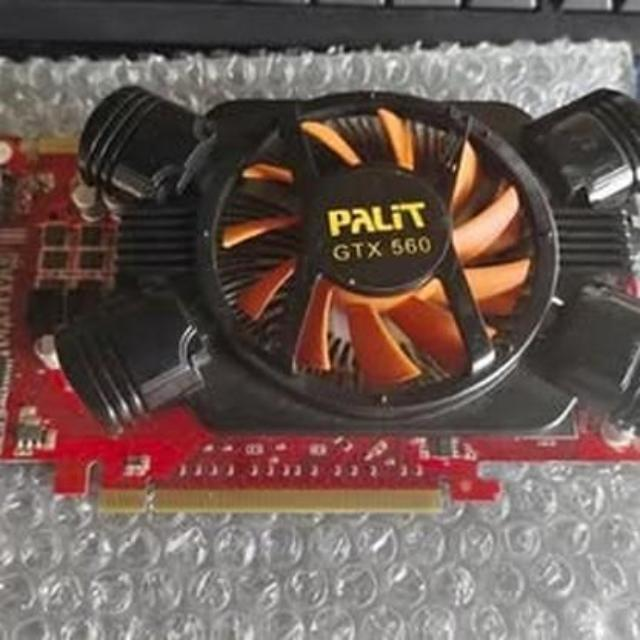GPU: (0, 90, 640, 512)
